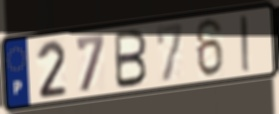2: (35, 38, 69, 100)
6: (194, 16, 226, 80)
7: (75, 31, 107, 95), (155, 22, 185, 85)
B: (114, 28, 149, 91)
I: (238, 13, 253, 74)
